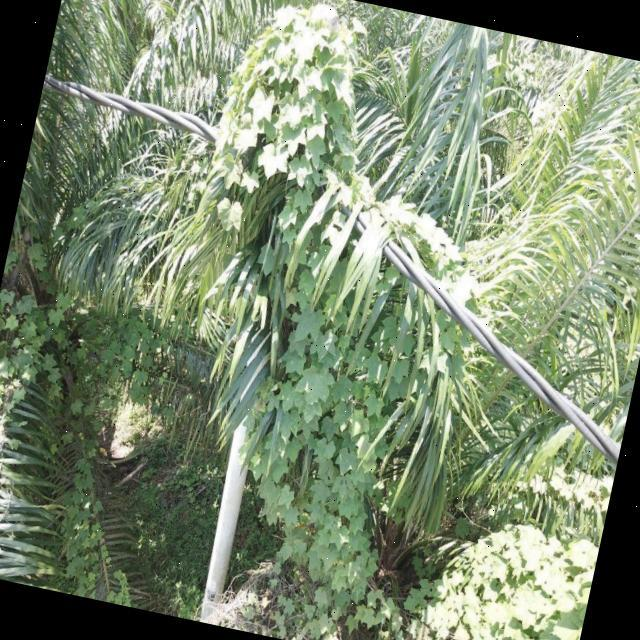critical vegetation: (129, 0, 460, 522)
